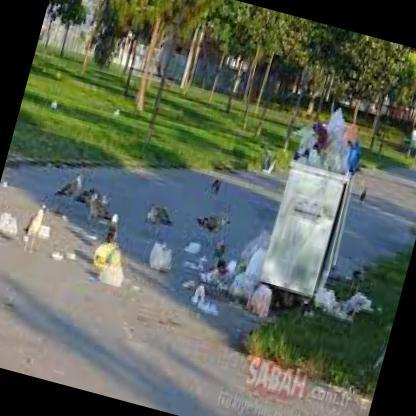Garbage: (294, 106, 372, 174), (316, 285, 380, 326), (86, 245, 131, 295), (235, 221, 272, 280), (178, 284, 219, 324), (148, 238, 180, 272), (0, 204, 25, 242), (294, 138, 323, 170), (50, 243, 80, 265), (324, 141, 346, 169), (182, 230, 206, 254), (39, 221, 58, 244), (187, 258, 208, 276)
